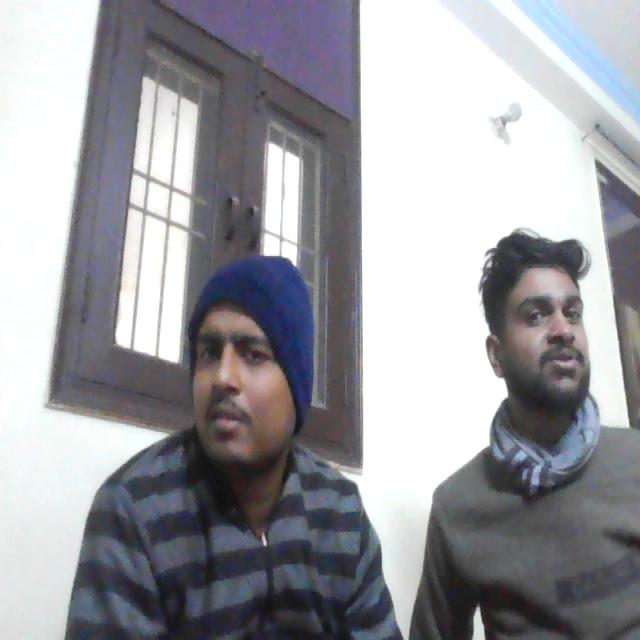real: (184, 245, 307, 479), (495, 216, 597, 408)
